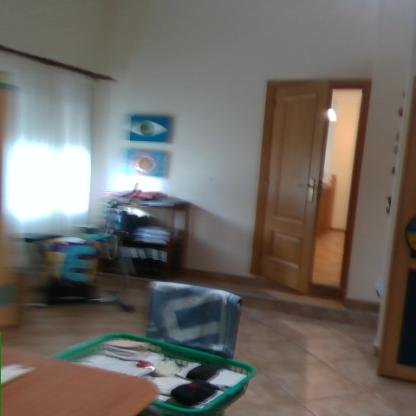semi: (255, 68, 377, 302)
